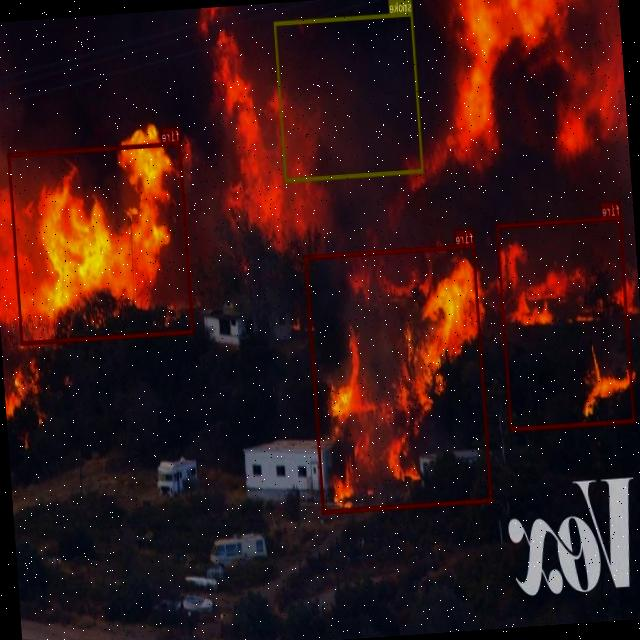fire: (304, 242, 492, 512), (8, 140, 194, 344), (496, 215, 636, 430)
smoke: (274, 12, 424, 182)
